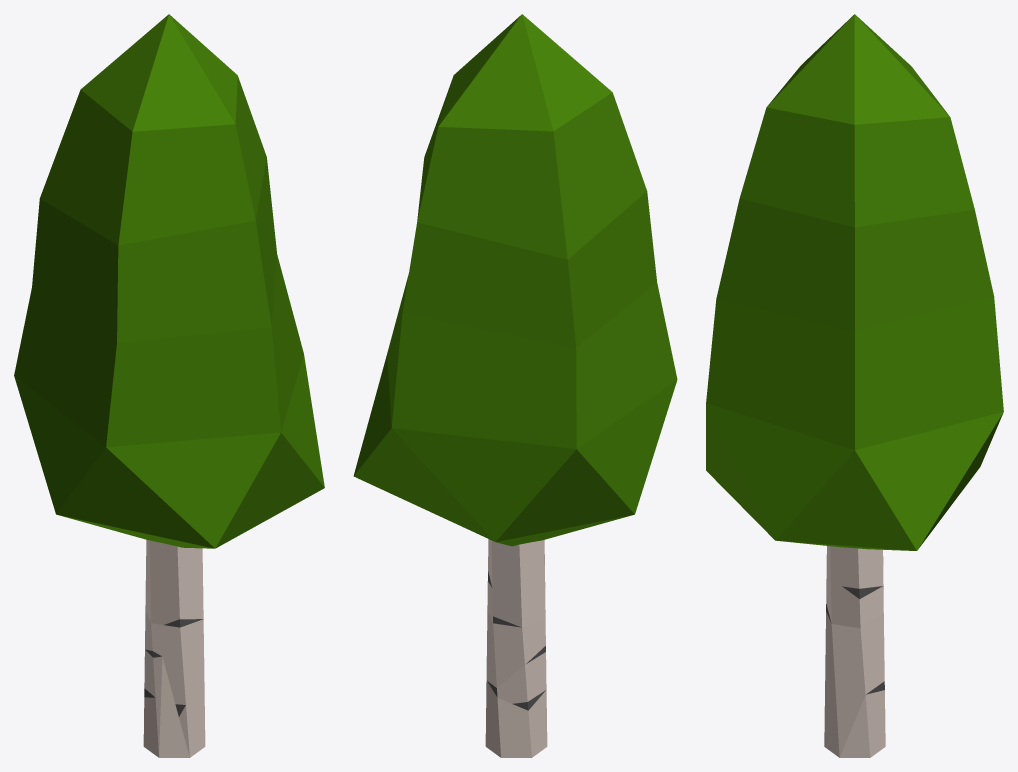
Rendered from T_Aspen2.fbx.
The picture shows the model from 3 angles, left to right: view 1: azimuth 30°, elevation 25°; view 2: azimuth 150°, elevation 25°; view 3: azimuth 270°, elevation 25°; orthographic projection.
Parts seen in each view (by area): view 1: Cylinder; view 2: Cylinder; view 3: Cylinder.
Boxes of the visible parts, box(x1,y1,x2,y2) form: Cylinder: box(14, 14, 324, 757); Cylinder: box(353, 14, 677, 757); Cylinder: box(706, 14, 1003, 757).
Bounding box in the file's own units: 2.84 × 7.97 × 2.95.
